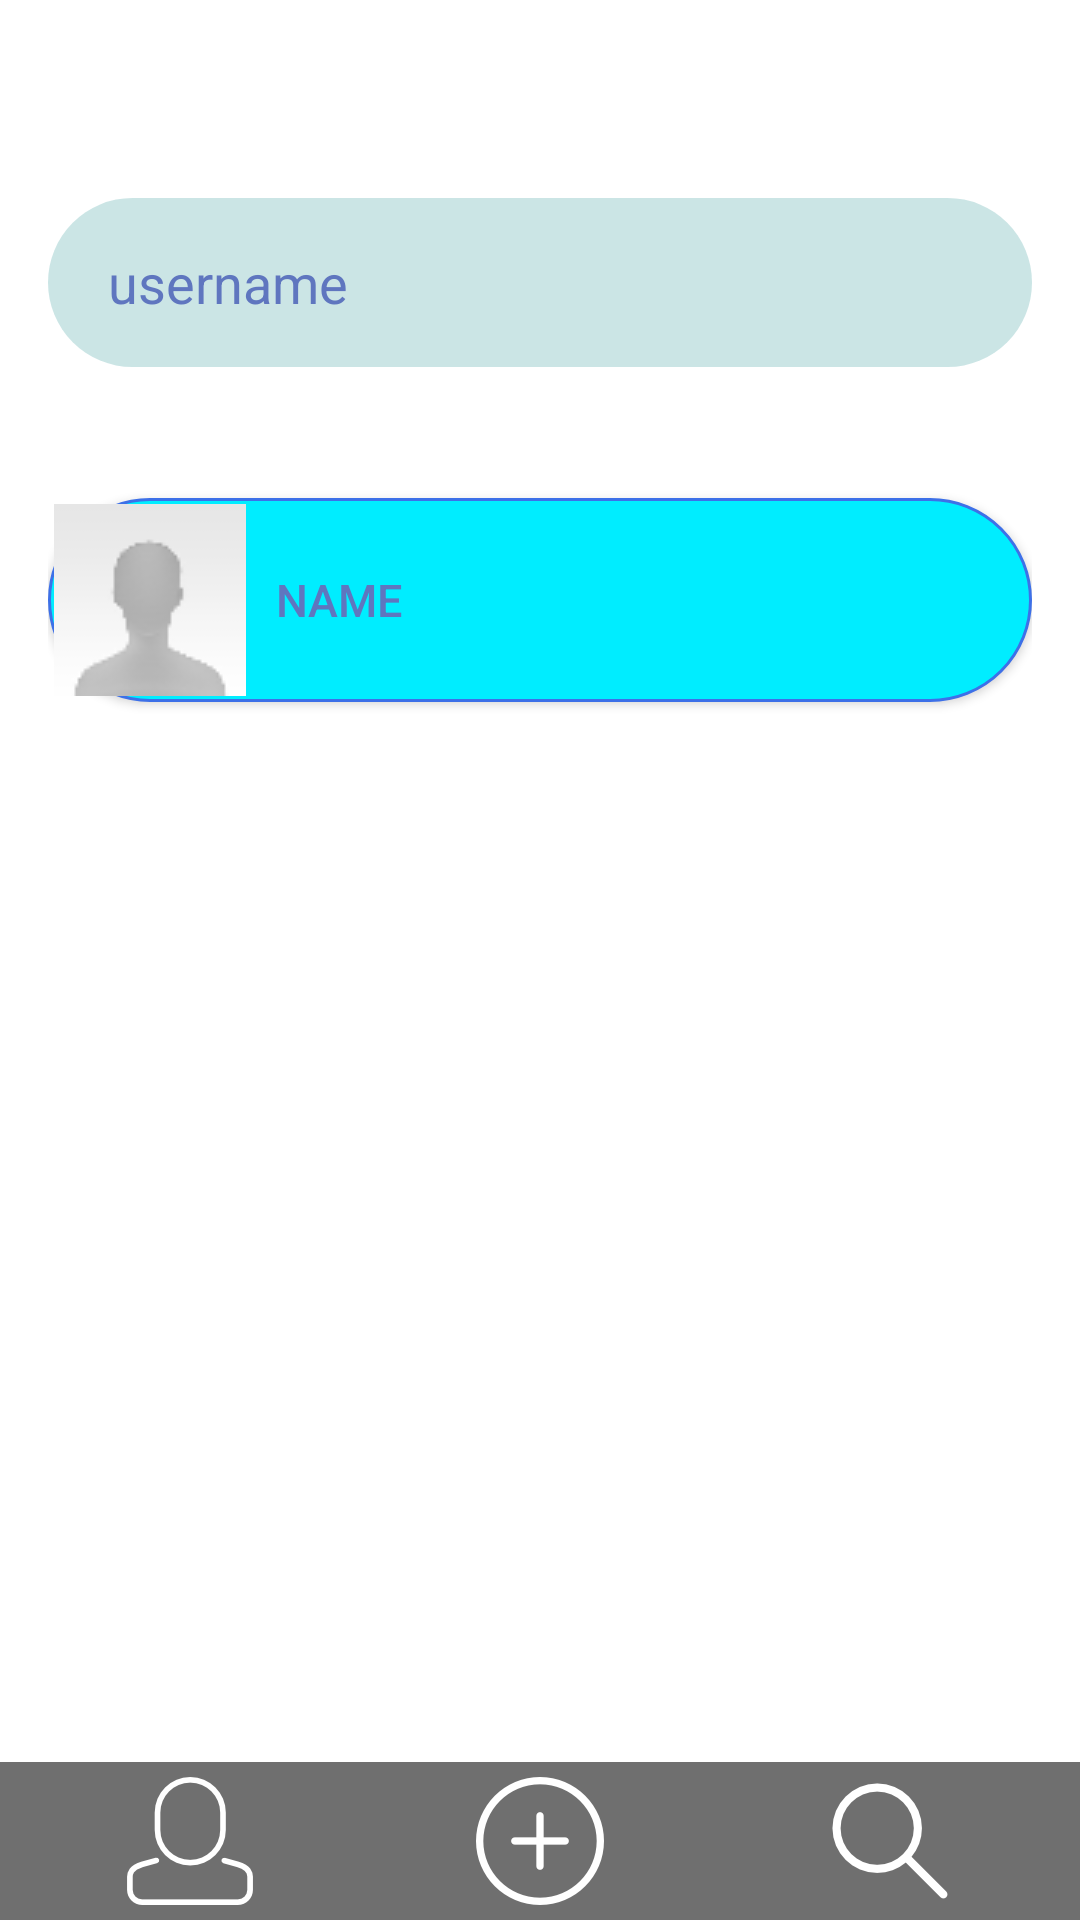

Icon bounding boxes for this 1080px x 1920px phone screenshot, format box(x1, y1, x2, y2):
plus: box(476, 1777, 604, 1905)
search: box(832, 1783, 948, 1899)
